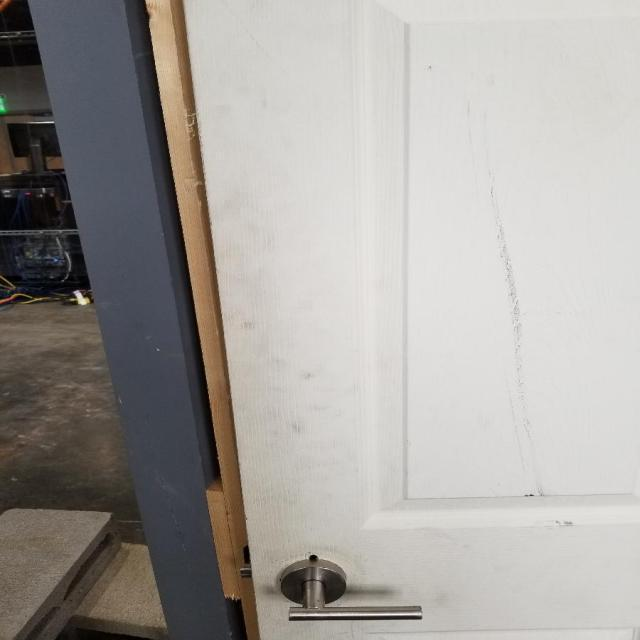door: (273, 554, 429, 624)
